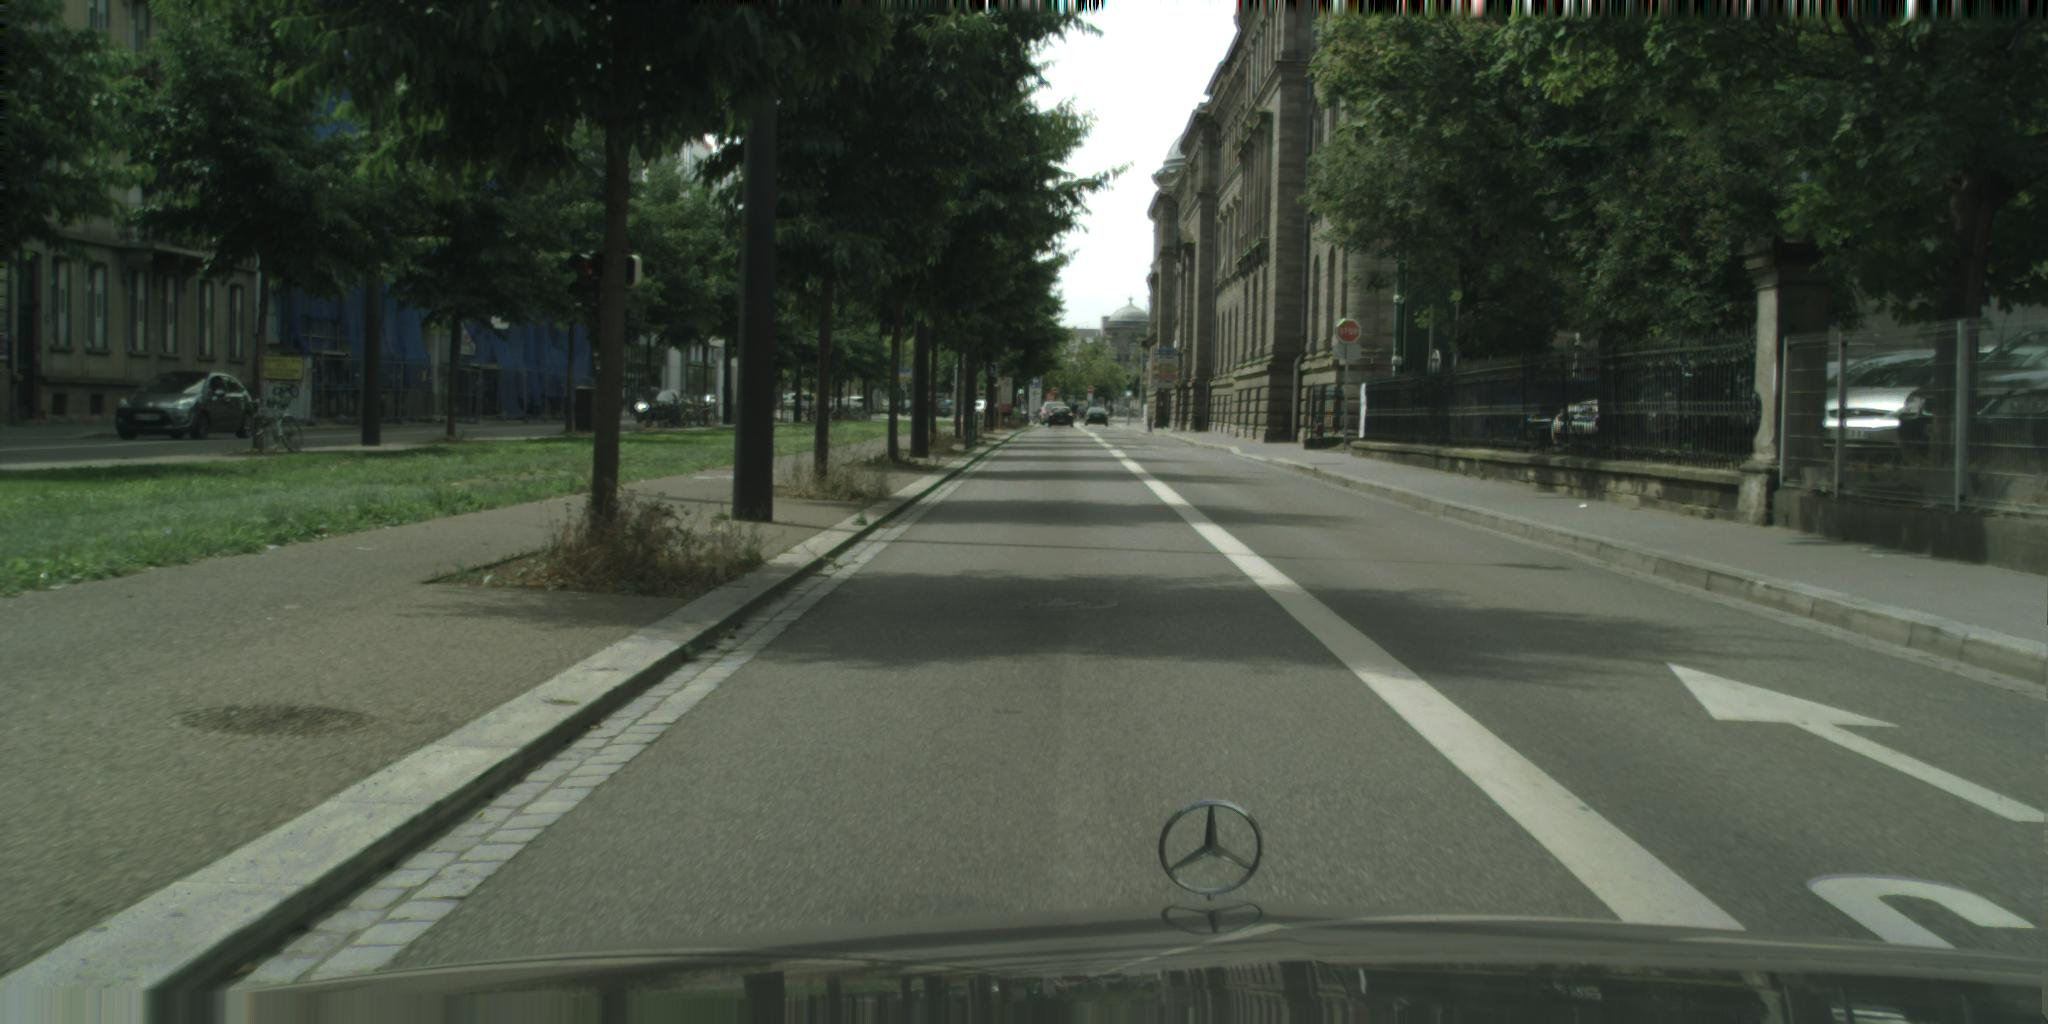bicycle: (246, 401, 304, 455)
car: (116, 371, 255, 440), (635, 391, 682, 424), (1041, 402, 1066, 426), (1049, 408, 1074, 428), (1085, 408, 1109, 428), (1033, 409, 1046, 426)
